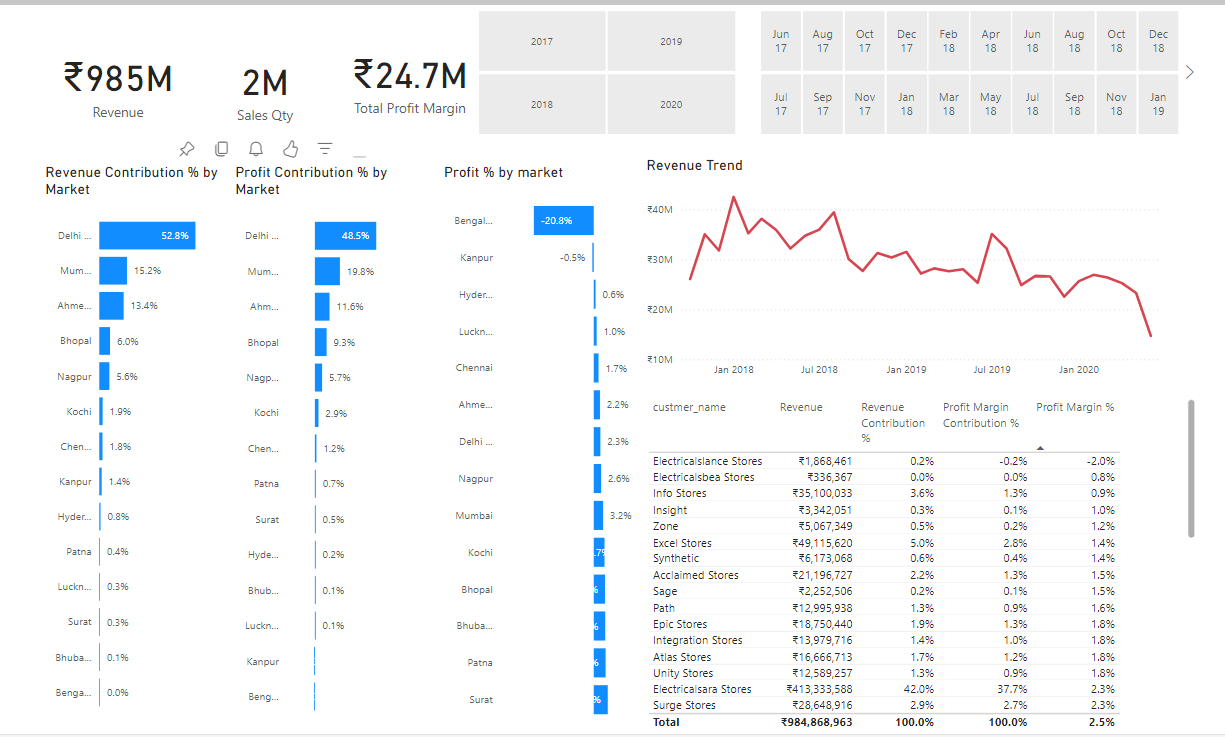

This screenshot's page, from the dashboard's own definition file:
{"tool":"powerbi","page":{"name":"Profit Analysis","canvas":[1350,850],"ordinal":1},"visuals":[{"type":"card","fields":{"Values":["BaseMeasures (2).Revenue"]},"box":[0,0,179.6,184.8],"z":0},{"type":"card","fields":{"Values":["BaseMeasures (2).Sales Qty"]},"box":[179.6,0,164.1,193],"z":1000},{"type":"barChart","title":"Profit % by market","fields":{"Y":["BaseMeasures (2).Profit Margin %"],"Category":["sales markets.markets_name"]},"box":[464.5,184.8,230.2,664.8],"z":2000},{"type":"barChart","title":"Profit Contribution % by Market","fields":{"Y":["BaseMeasures (2).Profit Margin Contribution %"],"Category":["sales markets.markets_name"]},"box":[221.9,185.8,208.5,659.6],"z":3000},{"type":"slicer","fields":{"Values":["sales date.year"]},"box":[483.6,0,349.4,157.4],"z":4000},{"type":"slicer","fields":{"Values":["sales date.cy_date"]},"box":[812.8,0,537,157.4],"z":5000},{"type":"tableEx","title":"Top 5 Customers","fields":{"Values":["sales customers.custmer_name","BaseMeasures (2).Revenue","BaseMeasures (2).Revenue Contribution %","BaseMeasures (2).Profit Margin Contribution %","BaseMeasures (2).Profit Margin %"]},"box":[701.9,454.2,648.3,395.4],"z":6000},{"type":"lineChart","title":"Revenue Trend","fields":{"Y":["BaseMeasures (2).Revenue"],"Category":["sales date.cy_date"]},"box":[701.6,176.1,622.2,267.1],"z":7000},{"type":"card","fields":{"Values":["BaseMeasures (2).Total Profit Margin"]},"box":[349.9,0,161,176.5],"z":8000},{"type":"barChart","title":"Revenue Contribution % by Market","fields":{"Y":["BaseMeasures (2).Revenue Contribution %"],"Category":["sales markets.markets_name"]},"box":[0,185.8,219.9,654.5],"z":9000}]}

Visuals, with their boxes on the page's 1350x850 design canvas (x1, y1, x2, y2). These are canvas units, not pixel positions in the 1225x737 screenshot, which may show the page scaled, cropped or inside an application window:
card - BaseMeasures (2).Revenue: [0,0,180,185]
card - BaseMeasures (2).Sales Qty: [180,0,344,193]
"Profit % by market" barChart: [464,185,695,850]
"Profit Contribution % by Market" barChart: [222,186,430,845]
slicer - sales date.year: [484,0,833,157]
slicer - sales date.cy_date: [813,0,1350,157]
"Top 5 Customers" tableEx: [702,454,1350,850]
"Revenue Trend" lineChart: [702,176,1324,443]
card - BaseMeasures (2).Total Profit Margin: [350,0,511,176]
"Revenue Contribution % by Market" barChart: [0,186,220,840]
